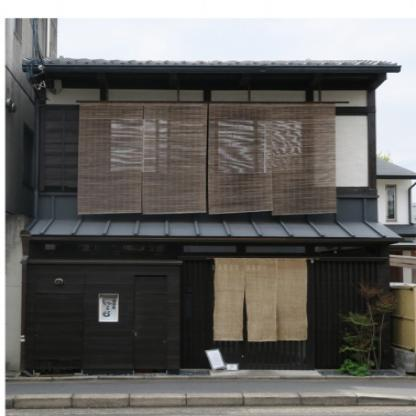Blind: (209, 102, 350, 215), (75, 101, 209, 215), (214, 259, 308, 341)
Building Outline: (19, 57, 405, 375)
Dont: (336, 277, 397, 376)
Door: (211, 260, 316, 370)
Facade: (32, 73, 375, 375)
Floor Slab: (32, 219, 378, 225)
Ground Floor: (32, 225, 378, 375)
Roof: (19, 192, 405, 242), (21, 57, 402, 74)
Top Floor: (32, 73, 375, 219)
Window: (216, 117, 311, 173), (109, 117, 171, 173), (45, 244, 164, 251), (245, 246, 305, 253), (315, 246, 374, 253), (183, 246, 237, 253)
